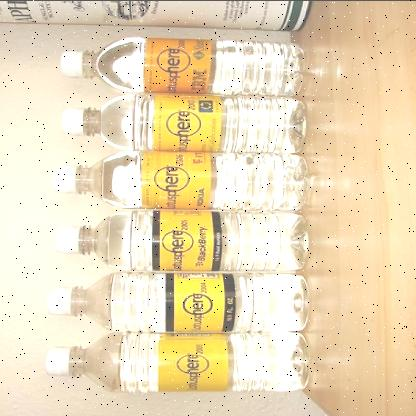Plastic Bottle: (45, 332, 309, 392), (47, 271, 309, 331), (56, 210, 308, 270), (53, 151, 309, 209), (62, 93, 306, 151), (61, 36, 305, 94)
